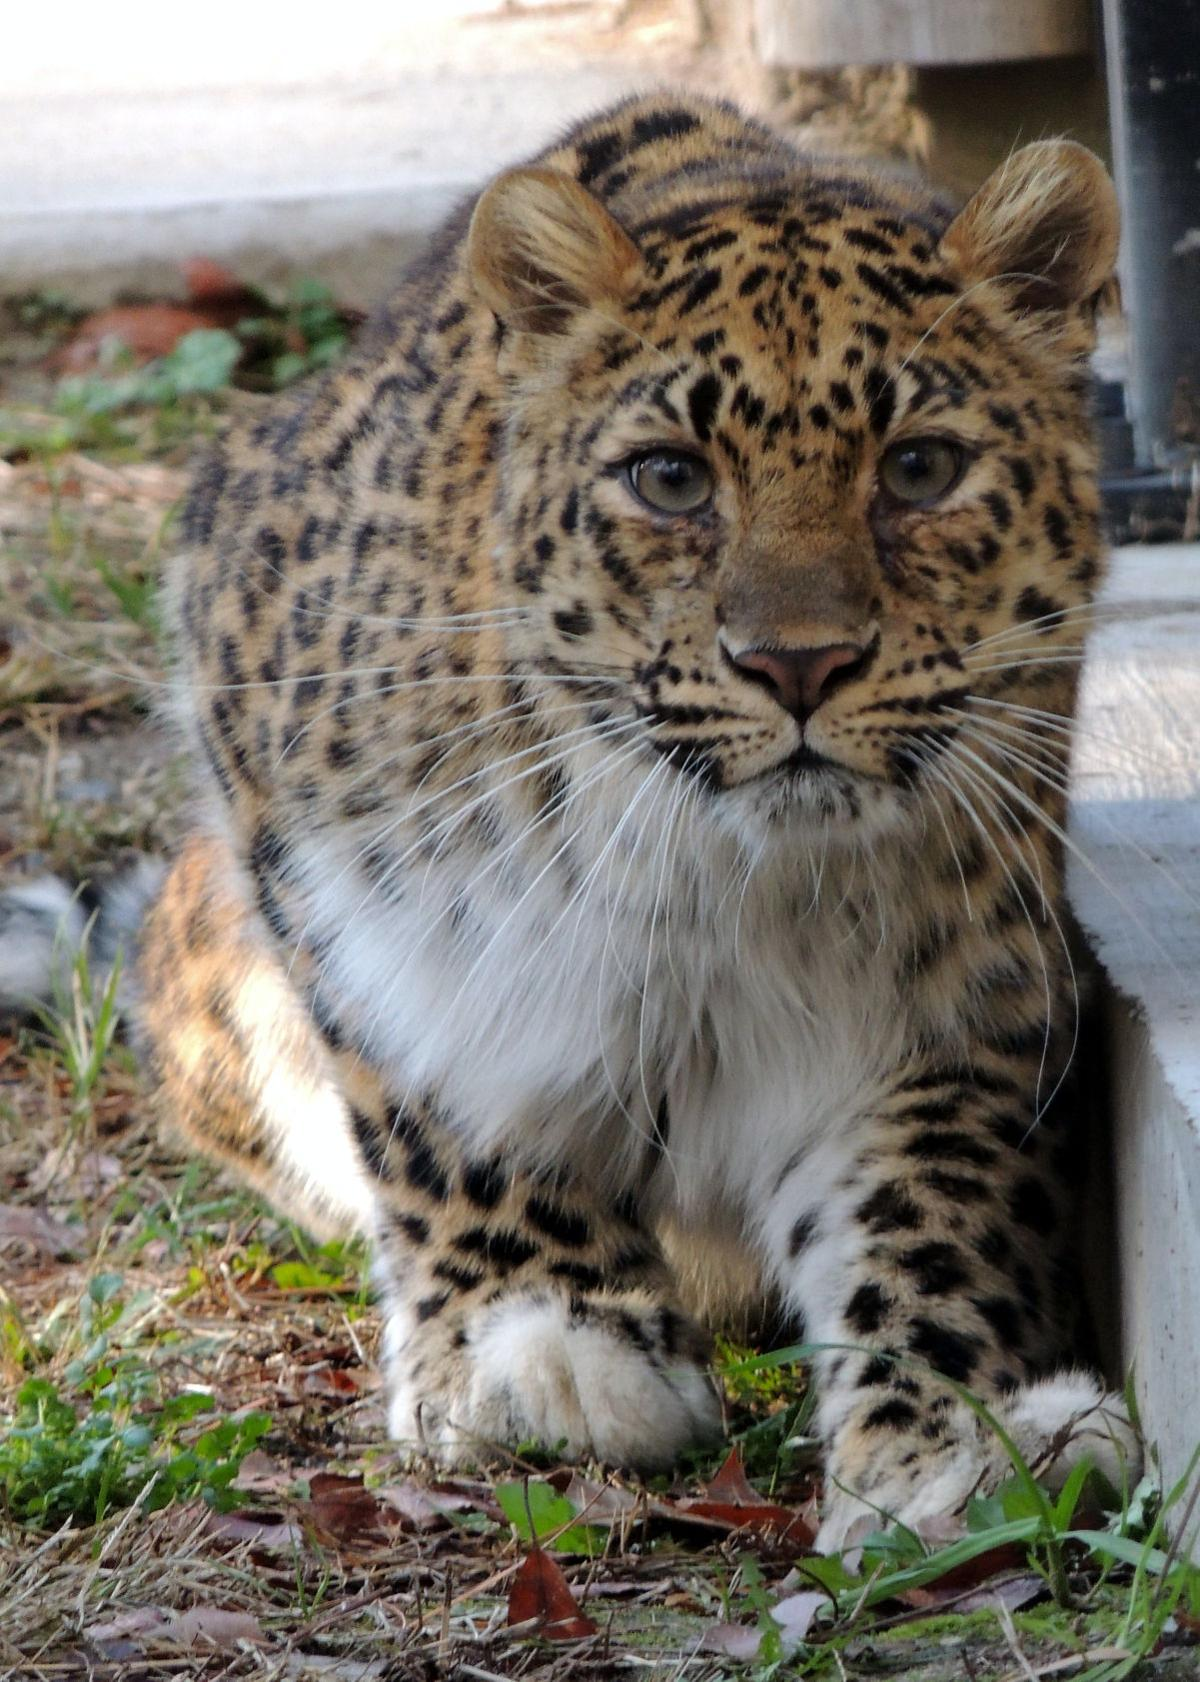amur_leopard: (123, 19, 1142, 1551)
